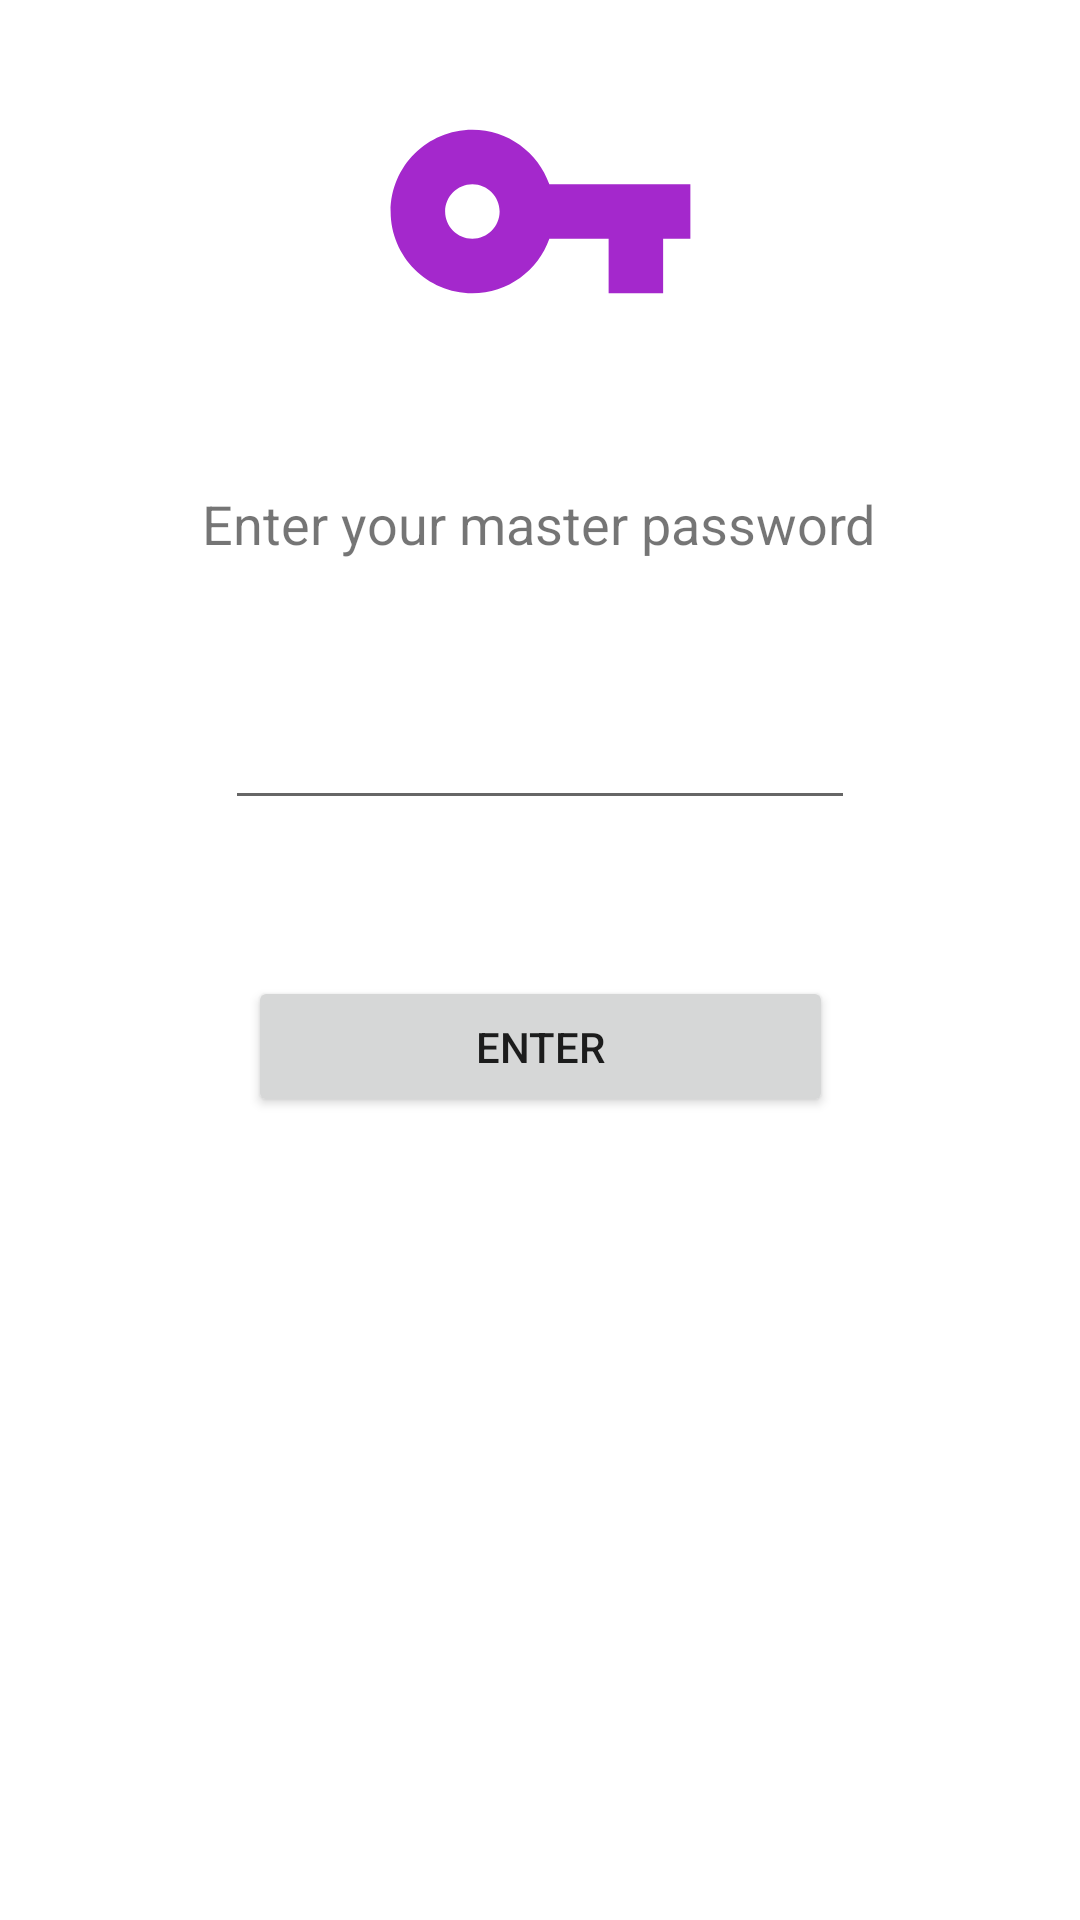

Named icons in this screenshot (1080px x 1920px) and their centers, point (x, y):
key: point (540, 211)
